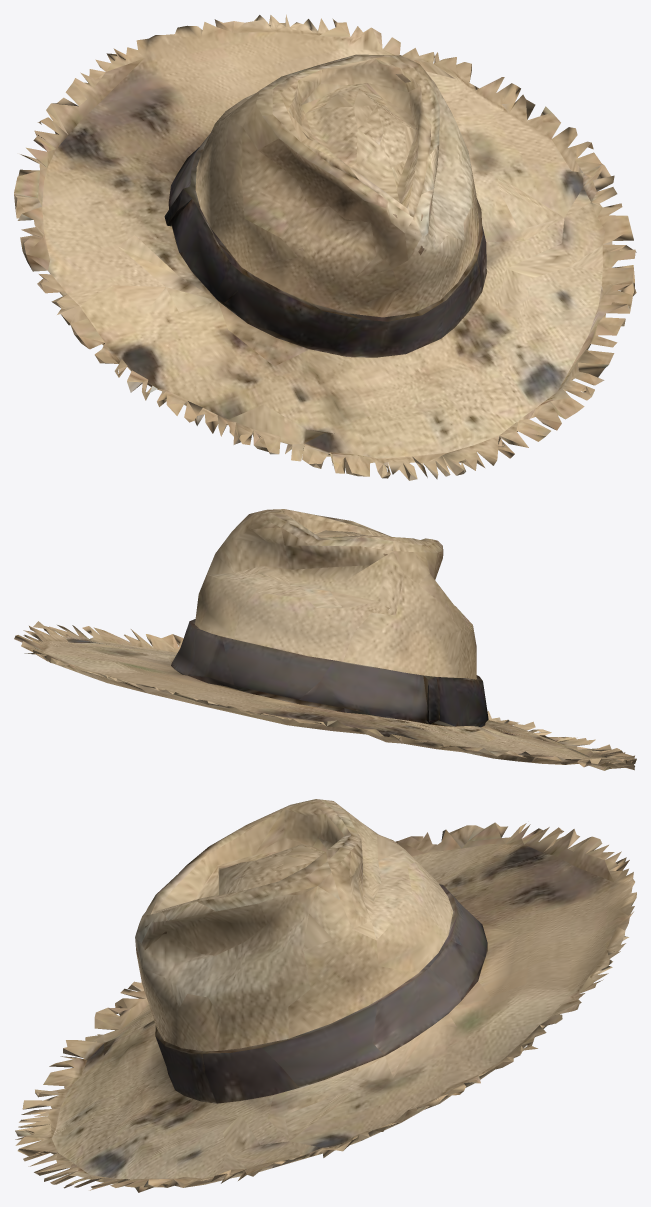
File: hat-straw.glb
3 views of the same model, one above another, from view 1: azimuth 30°, elevation 25°; view 2: azimuth 150°, elevation 25°; view 3: azimuth 270°, elevation 25° (orthographic). The views are drawn at different scales.
Parts seen in each view (by area): view 1: hat-straw; view 2: hat-straw; view 3: hat-straw.
Part boxes in pixels (<box>): hat-straw: <box>14,14,636,480</box>; hat-straw: <box>14,509,636,770</box>; hat-straw: <box>15,799,636,1192</box>.
Size of the model in its own units: 0.5908 by 0.3 by 0.5377.
1 material, 1 textured.
